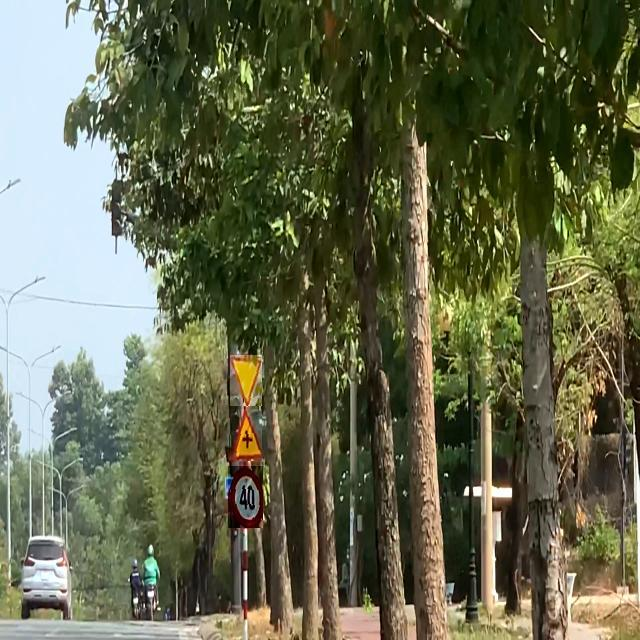P-127: (228, 467, 263, 529)
W-205a: (228, 409, 262, 462)
W-208: (230, 355, 262, 406)
